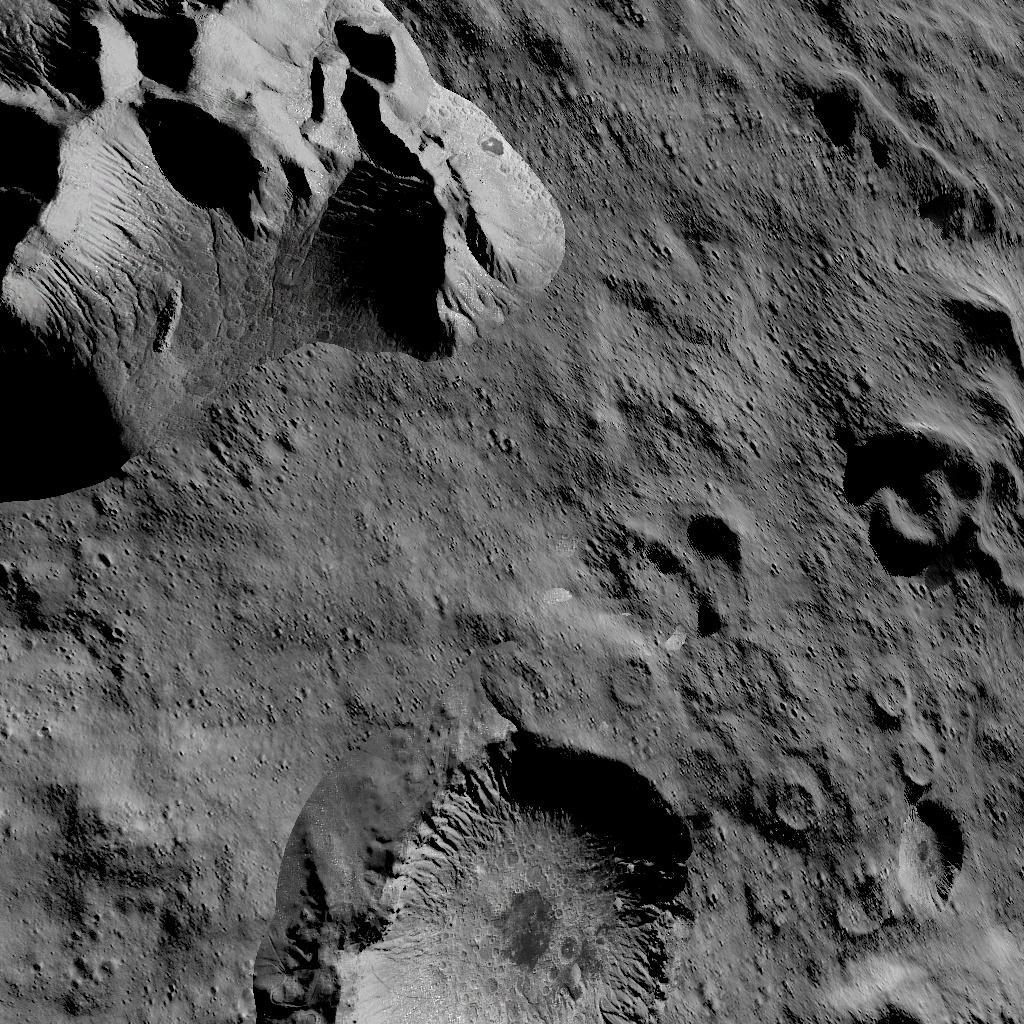Boulders: (0, 0, 578, 505)
Crater: (313, 726, 765, 1024), (848, 420, 1024, 604), (686, 510, 768, 638), (896, 802, 980, 918), (835, 876, 892, 943), (864, 668, 928, 726), (891, 736, 952, 796), (606, 651, 669, 708), (774, 774, 828, 838)
Plan surface: (0, 530, 299, 1024), (592, 152, 960, 398), (309, 526, 580, 716)
